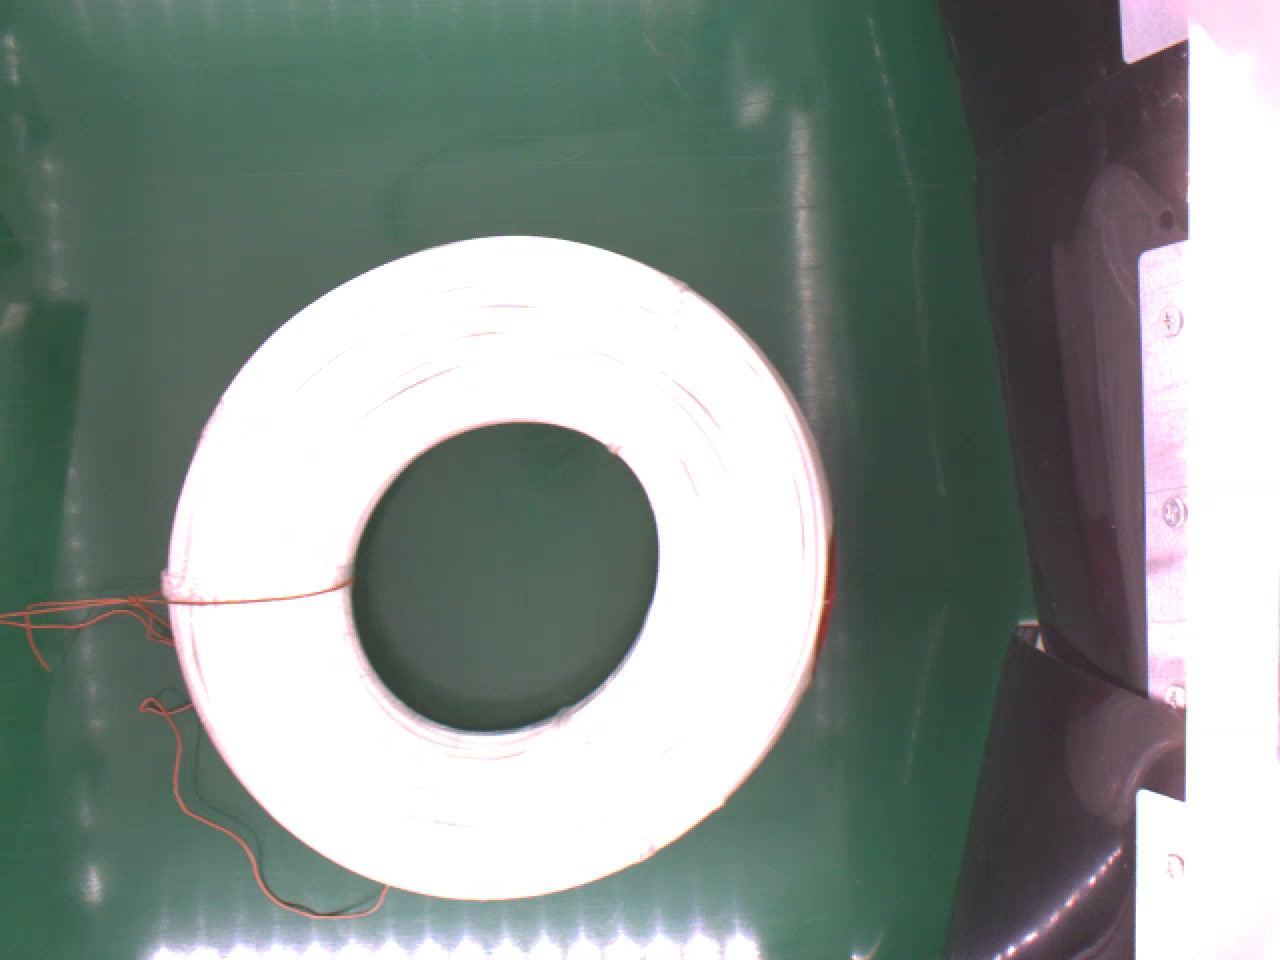white: (148, 223, 838, 899)
